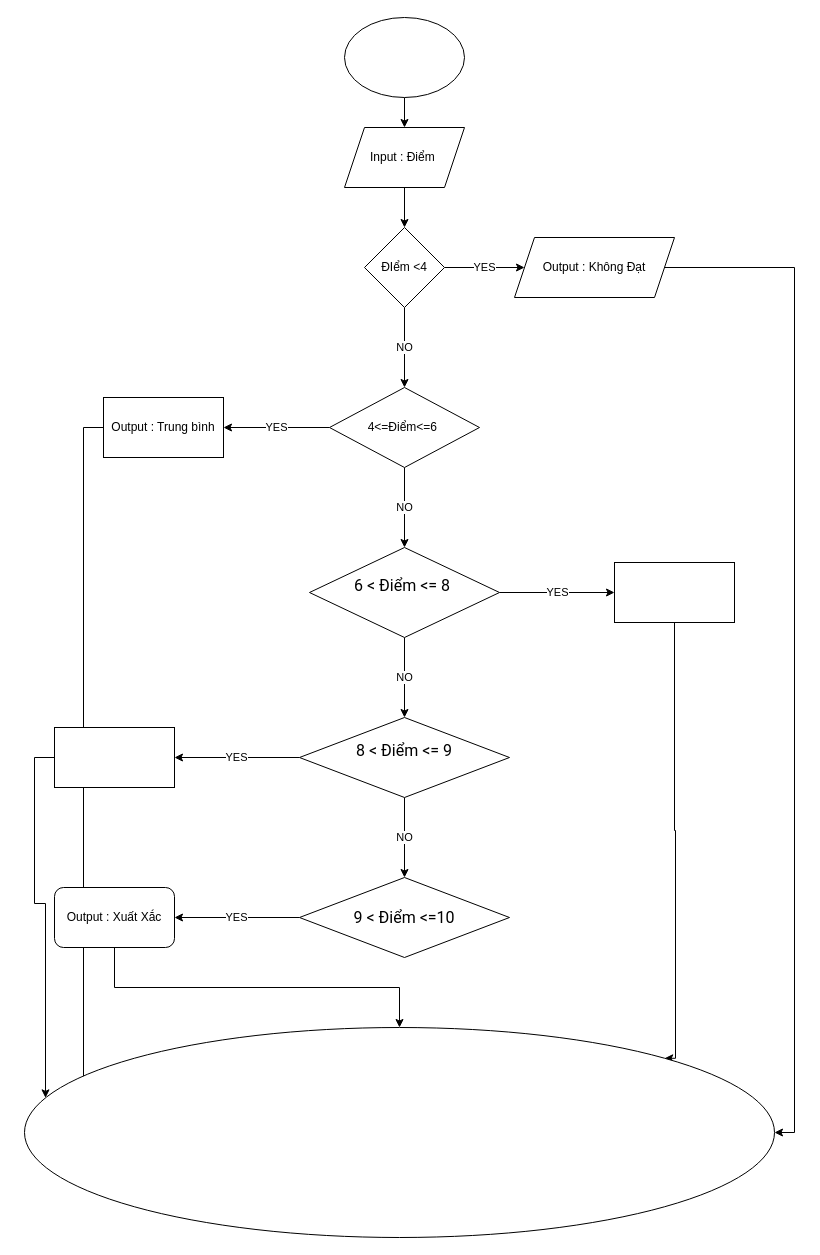
Some shapes in this 820 by 1255 pixel diagram are drawn without their labels. Here are the shapes that lost their labels. From the top down, the box of each, then its label:
(344, 16, 464, 98): START
(614, 562, 734, 622): Output : Khá
(54, 726, 174, 788): Output : Giỏi
(24, 1026, 774, 1238): END
